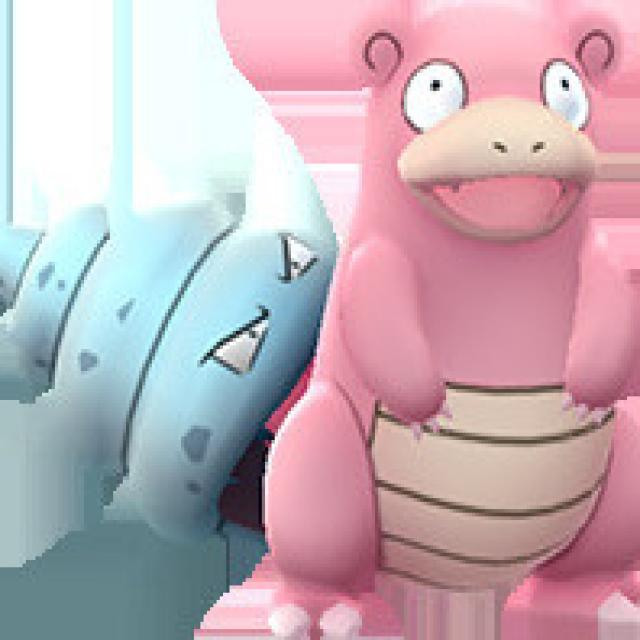Slowbro: (159, 0, 634, 586)
